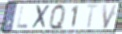1: (71, 5, 79, 30)
L: (16, 6, 29, 30)
Q: (49, 3, 66, 31)
T: (85, 4, 100, 30)
V: (101, 4, 119, 31)
X: (31, 5, 51, 30)
